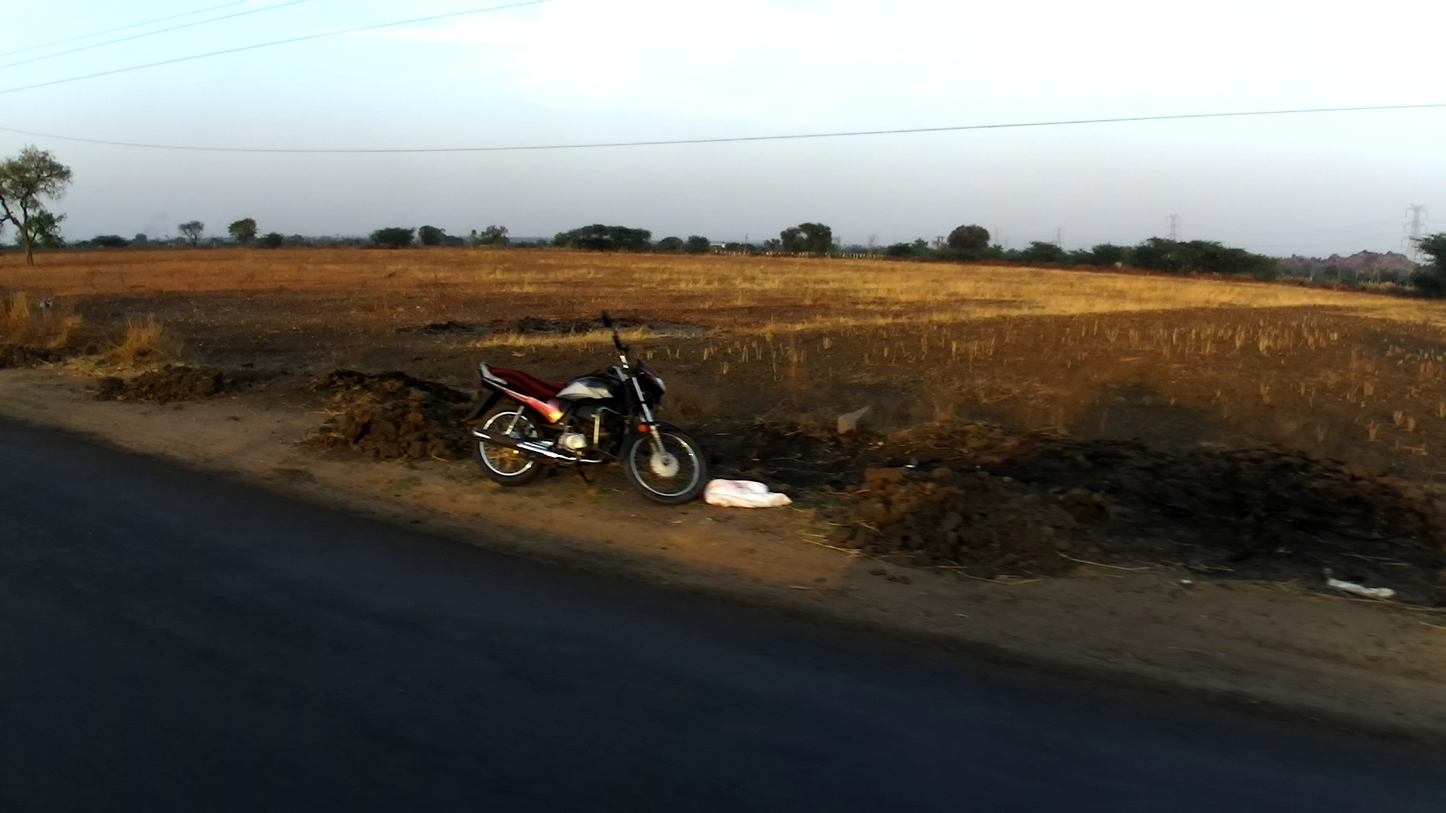motorcycle: (464, 330, 706, 505)
